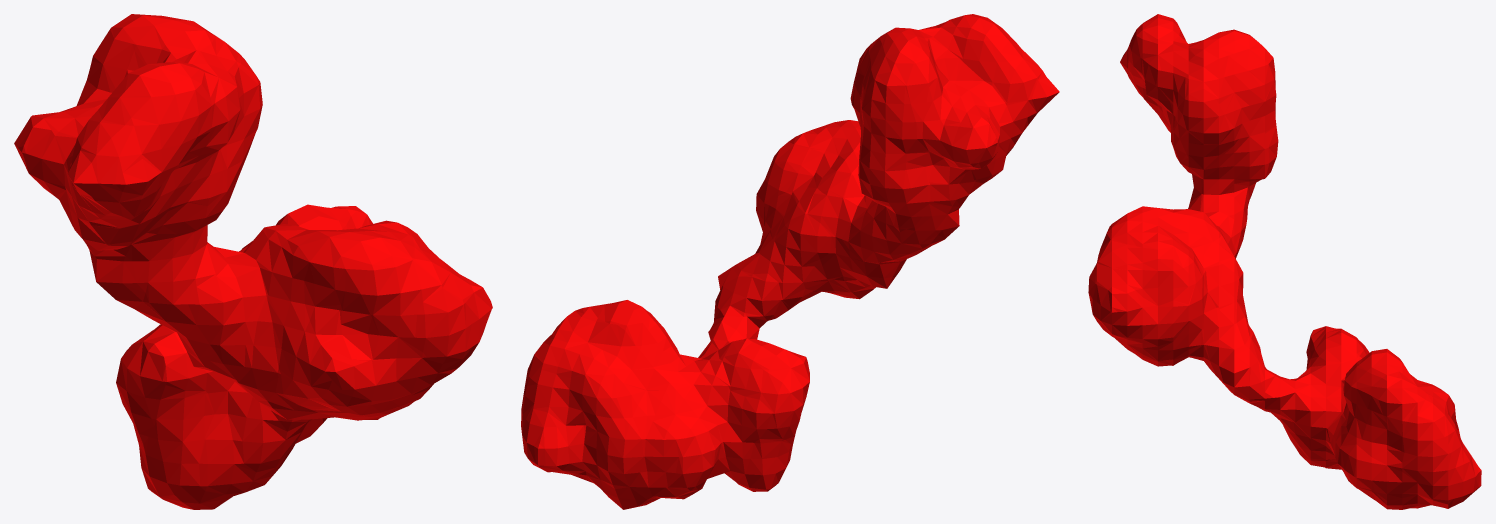
Rendered from fliG_coarse.dae.
3 renders of one model, left to right at view 1: azimuth 30°, elevation 25°; view 2: azimuth 150°, elevation 25°; view 3: azimuth 270°, elevation 25°, orthographic. The views are drawn at different scales.
Visible parts, largest first — view 1: fliG; view 2: fliG; view 3: fliG.
Part boxes in pixels (box(x1,y1,x2,y2)): fliG: box(14, 14, 492, 509); fliG: box(521, 14, 1059, 509); fliG: box(1088, 14, 1481, 509).
Size of the model in its own units: 84.76 by 93.92 by 83.98.
